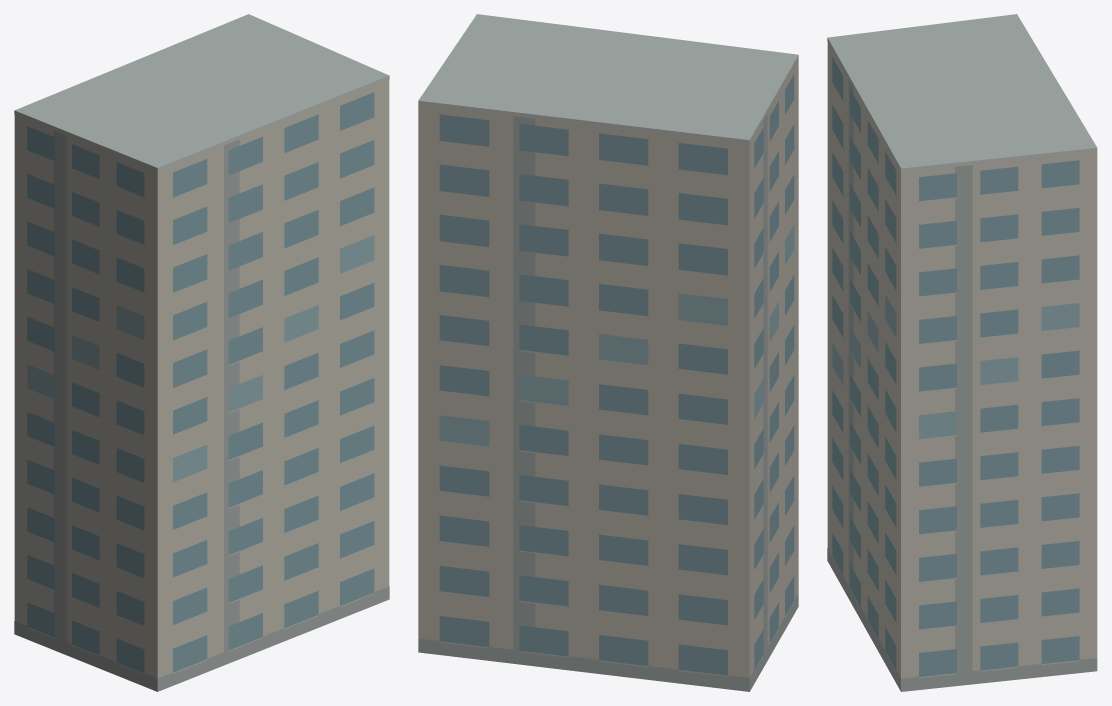
The model's file is residential-ae07dc04-2de8-4d9a-b91c-668dab6db218.glb.
3 views of the same model, side by side, from view 1: azimuth 30°, elevation 25°; view 2: azimuth 150°, elevation 25°; view 3: azimuth 270°, elevation 25° (orthographic). The views are drawn at different scales.
Parts seen in each view (by area): view 1: residential-ae07dc04-2de8-4d9a-b91c-668dab6db218.tmp; view 2: residential-ae07dc04-2de8-4d9a-b91c-668dab6db218.tmp; view 3: residential-ae07dc04-2de8-4d9a-b91c-668dab6db218.tmp.
Boxes of the visible parts, <box> form: residential-ae07dc04-2de8-4d9a-b91c-668dab6db218.tmp: <box>14,14,389,691</box>; residential-ae07dc04-2de8-4d9a-b91c-668dab6db218.tmp: <box>418,14,798,691</box>; residential-ae07dc04-2de8-4d9a-b91c-668dab6db218.tmp: <box>827,14,1097,691</box>.
Bounding box in the file's own units: 20.27 × 32 × 14.96.
